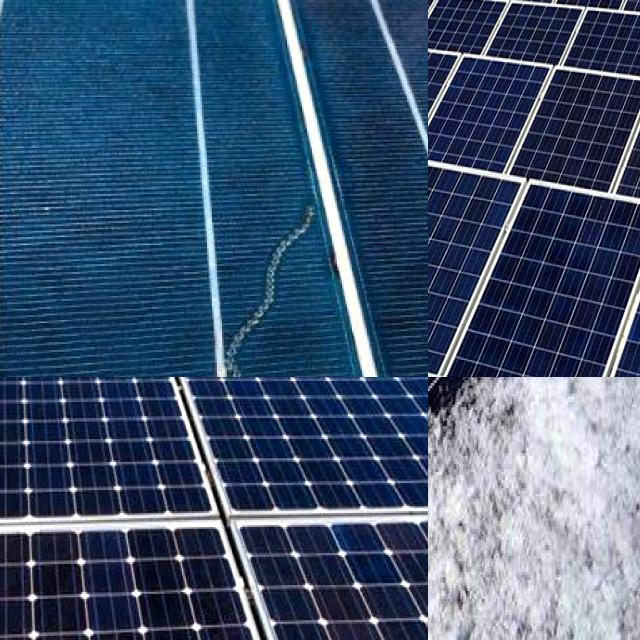crack: (428, 0, 640, 377), (0, 521, 393, 640), (144, 377, 428, 524), (428, 181, 640, 377), (0, 377, 216, 543), (203, 492, 428, 640), (428, 135, 549, 358), (111, 377, 389, 461), (0, 377, 156, 451)
panel: (428, 385, 549, 535), (527, 377, 640, 483), (428, 459, 485, 627), (428, 394, 486, 521), (503, 377, 604, 436), (440, 377, 519, 452), (428, 535, 483, 640), (428, 377, 468, 450), (428, 377, 475, 416), (428, 377, 466, 420), (428, 377, 471, 410), (428, 377, 459, 416), (428, 377, 454, 410), (428, 377, 458, 401), (428, 377, 461, 398)
shadow: (219, 176, 309, 377)
